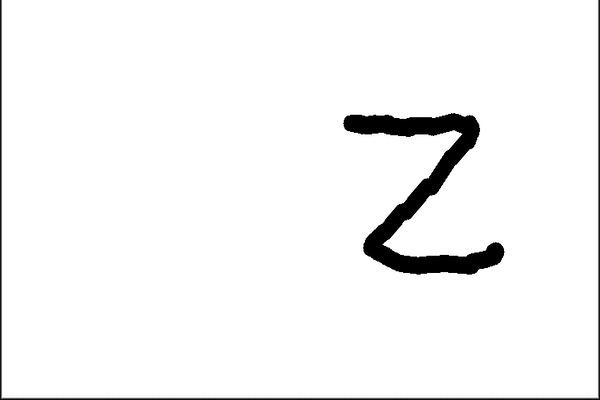Z: (333, 96, 509, 287)
